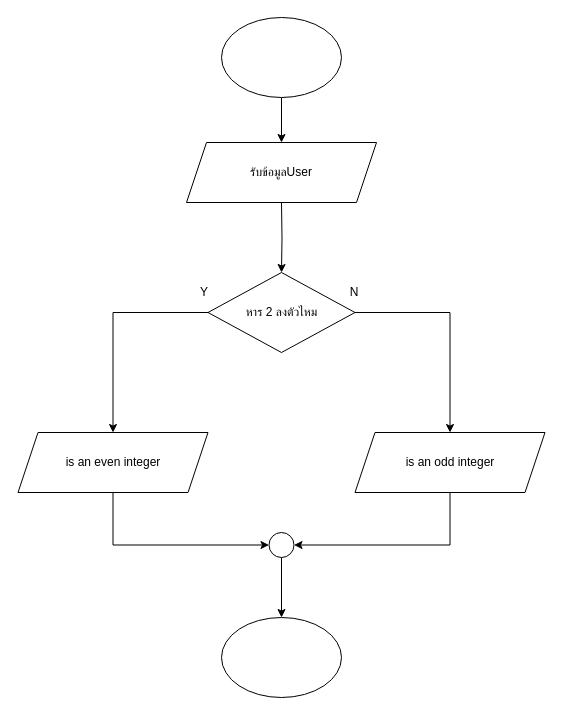
The diagram is 562 pixels wide and 715 high, and some of its shapes have lost their labels. Each missing label, with the centre of its shape:
"END" belongs at point 281,657.
"เลขเป็นคำ" belongs at point 281,57.
